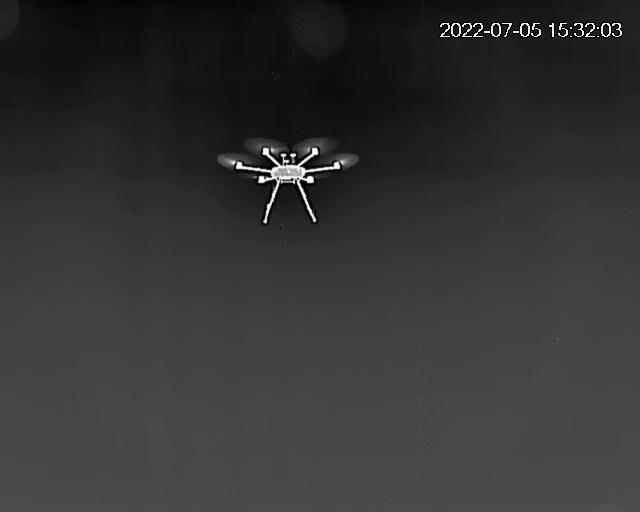DJI-Phantom: (215, 137, 362, 227)
